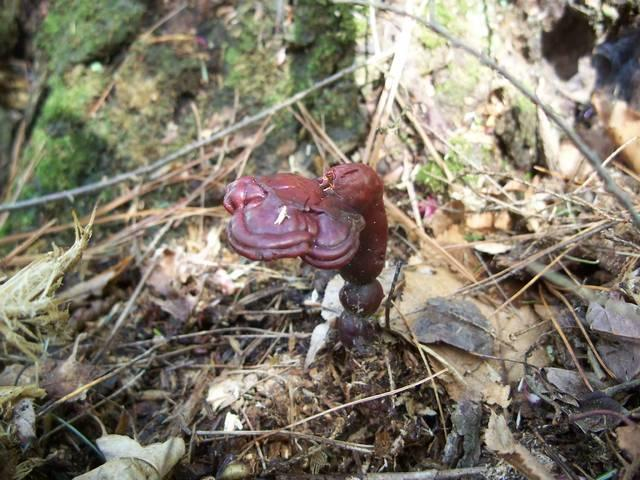poisonous_mushroom: (221, 160, 389, 317)
